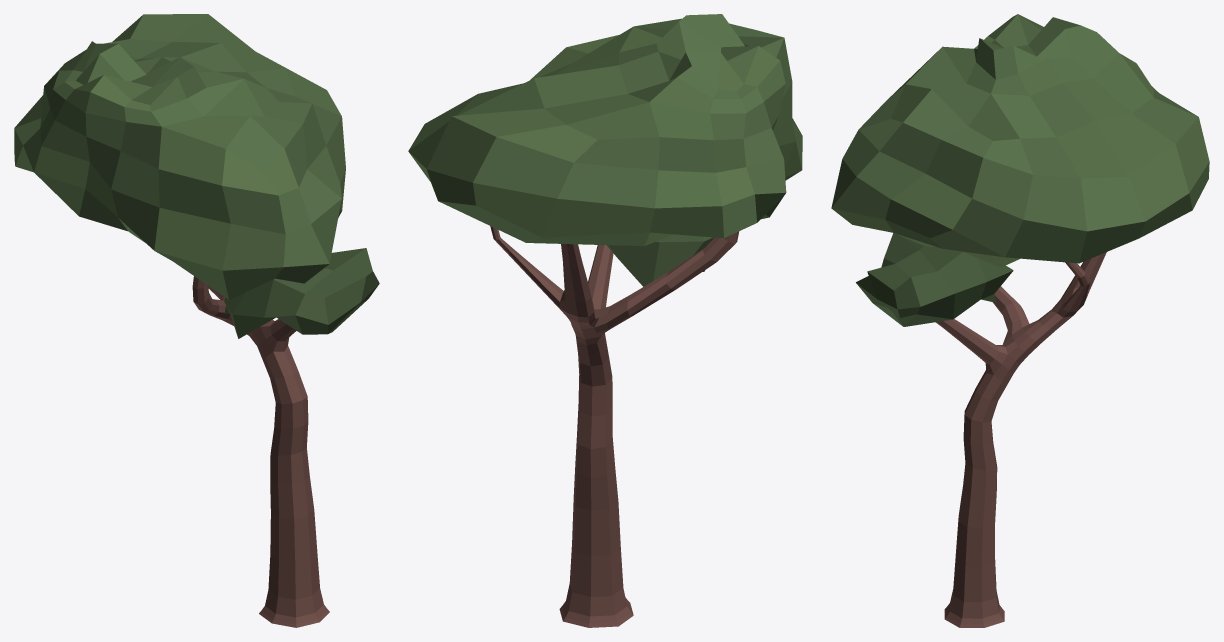
Rendered from commontree_4.glb.
The picture shows the model from 3 angles, left to right: view 1: azimuth 30°, elevation 25°; view 2: azimuth 150°, elevation 25°; view 3: azimuth 270°, elevation 25°; orthographic projection. The views are drawn at different scales.
Parts seen in each view (by area): view 1: CommonTree_4; view 2: CommonTree_4; view 3: CommonTree_4.
Boxes of the visible parts, x1,y1,x2,y2 form: CommonTree_4: [14, 14, 379, 627]; CommonTree_4: [408, 14, 802, 627]; CommonTree_4: [831, 14, 1209, 627].
Size of the model in its own units: 3.79 by 6.68 by 4.32.
